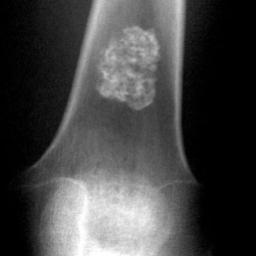cancer: (95, 26, 161, 111)
